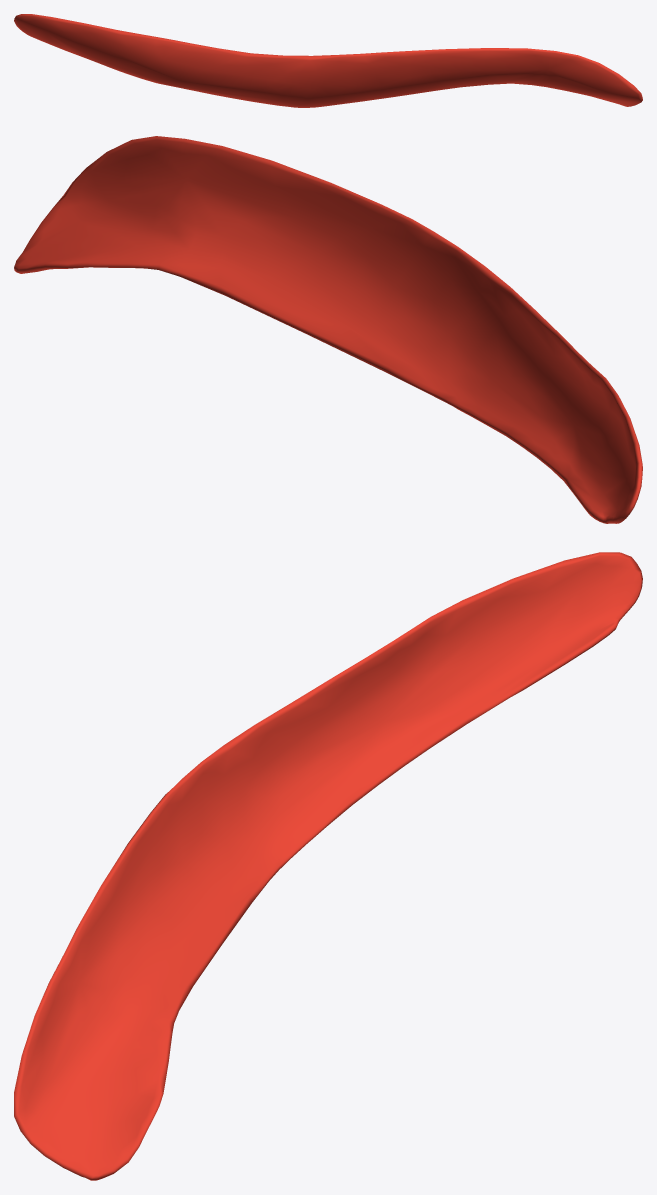
The model's file is Pectoralis_major_clavicular_insertion_right.glb.
The picture shows the model from 3 angles, top to bottom: view 1: azimuth 30°, elevation 25°; view 2: azimuth 150°, elevation 25°; view 3: azimuth 270°, elevation 25°; orthographic projection. The views are drawn at different scales.
Visible parts, largest first — view 1: Pectoralis_major_muscle-Clavicular_insertion.r_Cone.006; view 2: Pectoralis_major_muscle-Clavicular_insertion.r_Cone.006; view 3: Pectoralis_major_muscle-Clavicular_insertion.r_Cone.006.
Boxes of the visible parts, x1=… form: Pectoralis_major_muscle-Clavicular_insertion.r_Cone.006: x1=14, y1=14, x2=642, y2=107; Pectoralis_major_muscle-Clavicular_insertion.r_Cone.006: x1=14, y1=136, x2=642, y2=523; Pectoralis_major_muscle-Clavicular_insertion.r_Cone.006: x1=14, y1=552, x2=642, y2=1180.
Bounding box in the file's own units: 0.0654 × 0.0144 × 0.04.
